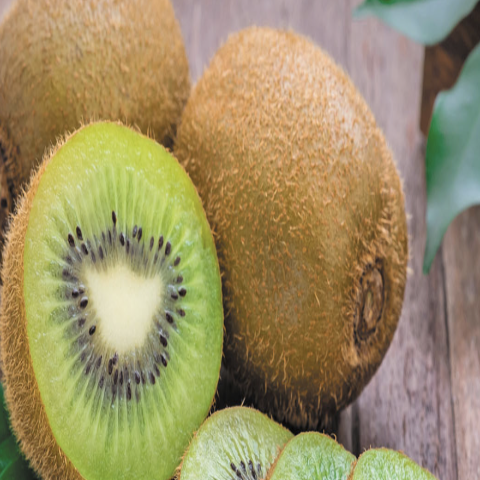kiwi: (115, 16, 443, 416)
